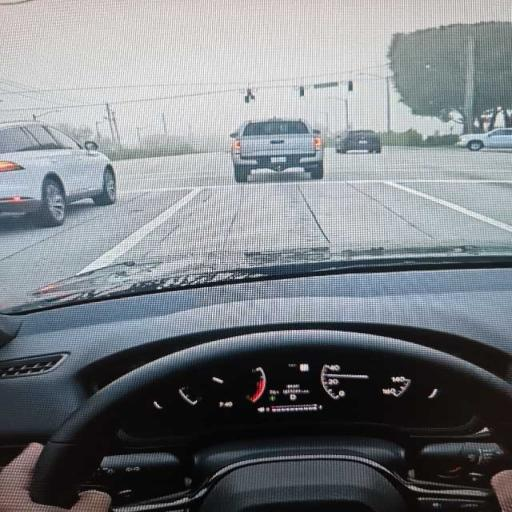car: (0, 252, 511, 511), (0, 122, 115, 226), (231, 118, 323, 182), (457, 128, 511, 151), (336, 130, 381, 153)
lane: (0, 148, 511, 296), (0, 191, 186, 302), (80, 188, 201, 273), (352, 182, 511, 246), (302, 183, 429, 250), (227, 184, 327, 252), (324, 147, 511, 181), (387, 182, 511, 233), (405, 182, 511, 225)
person: (0, 443, 67, 511)
